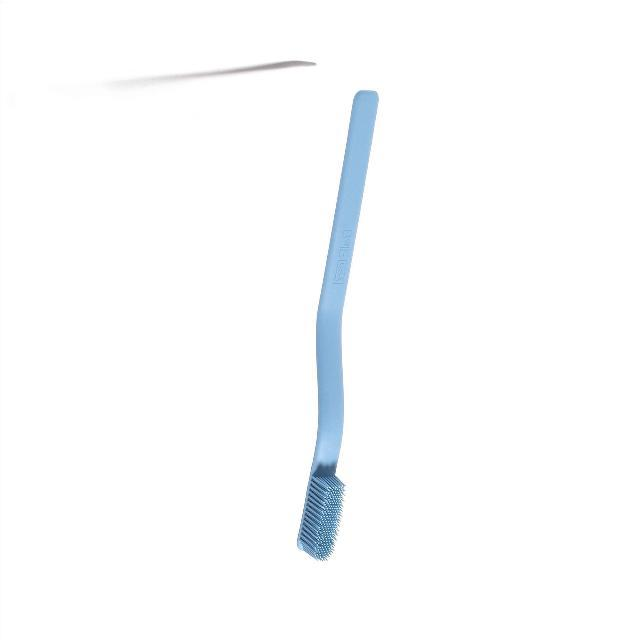toothbrush: (275, 91, 395, 566)
